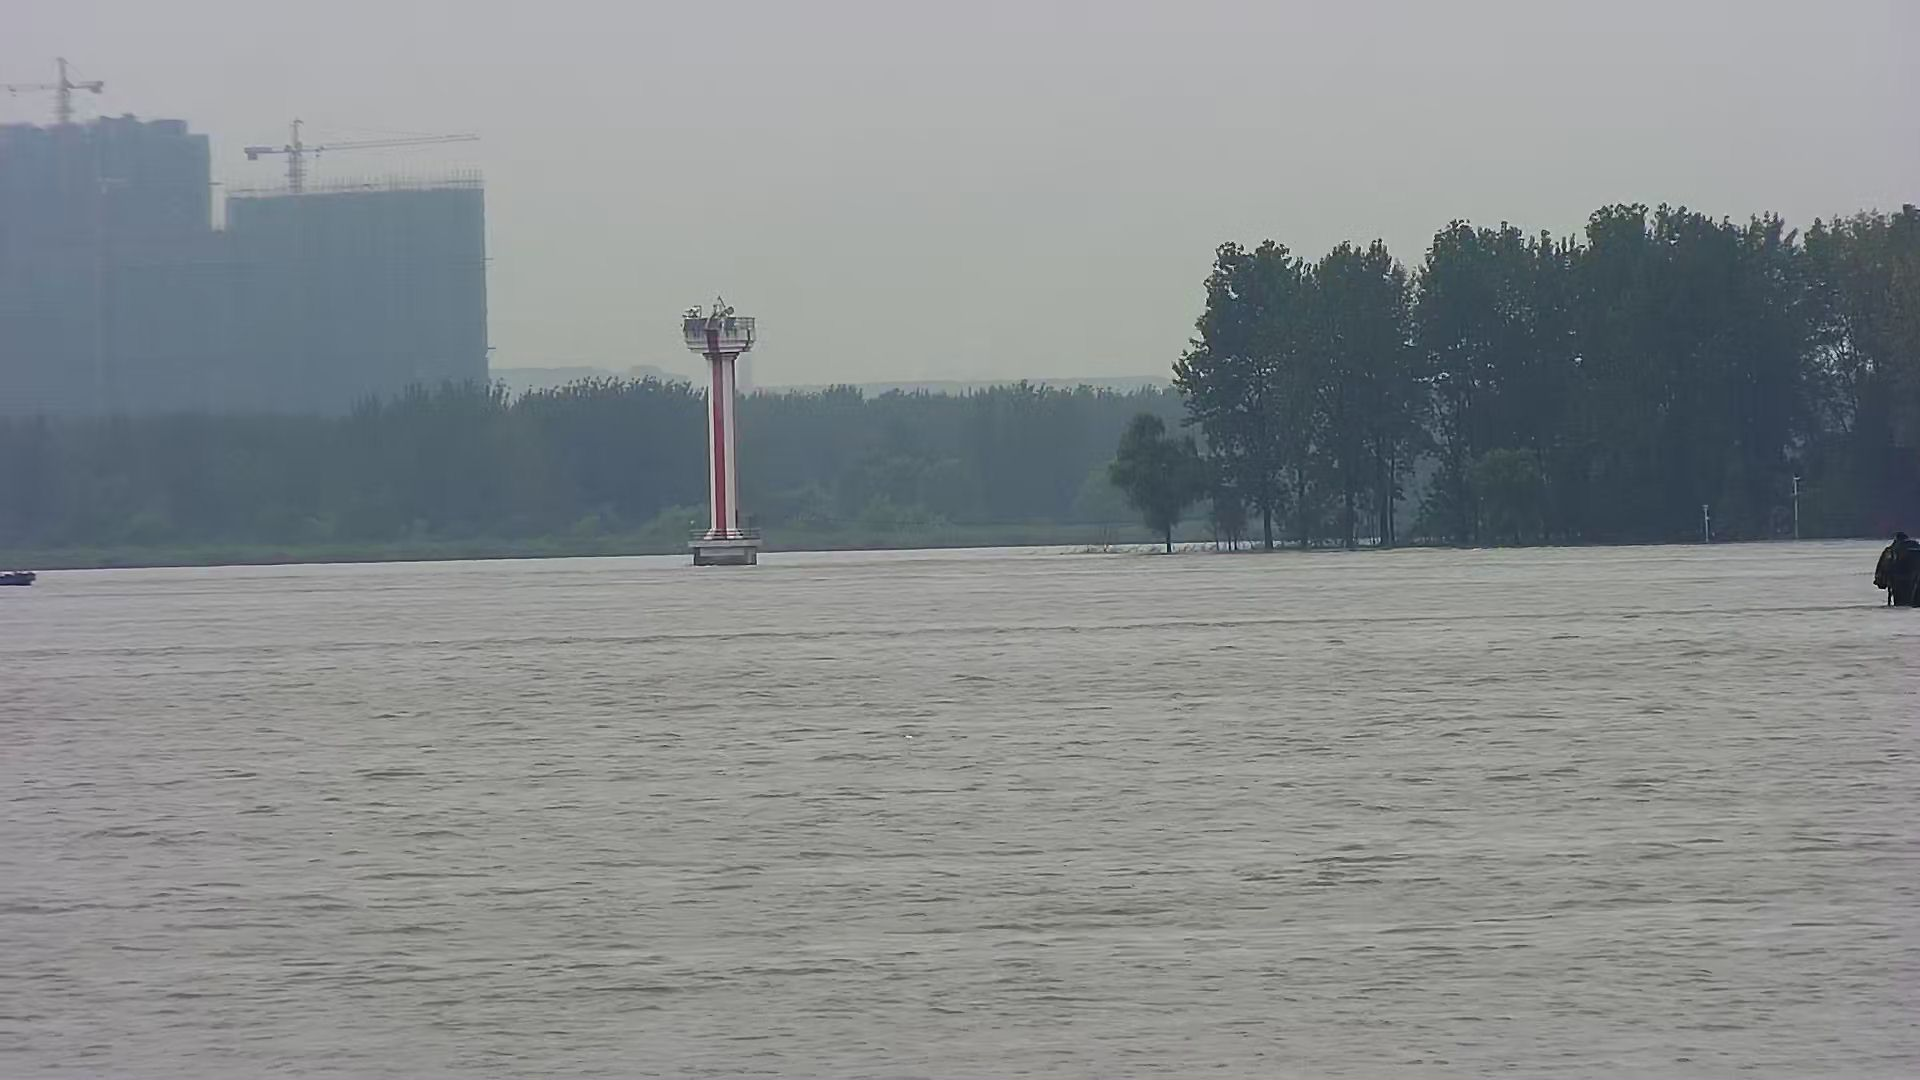boat: (1, 564, 36, 596)
platform: (674, 287, 775, 574)
ship: (1871, 488, 1920, 611)
